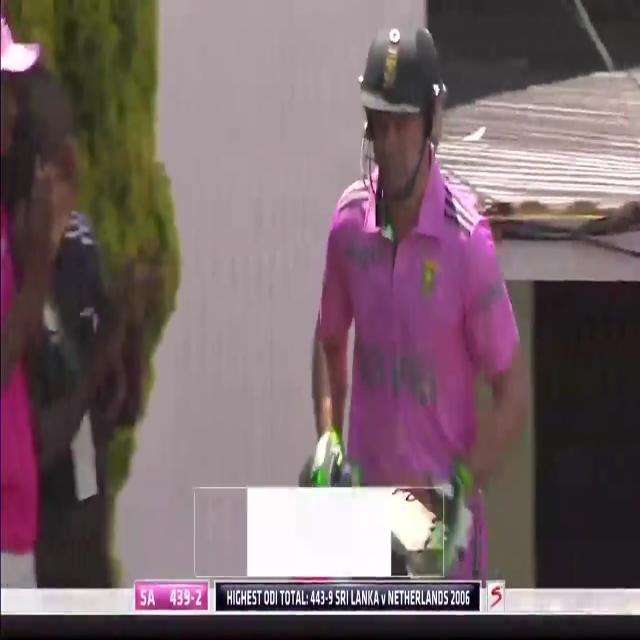Ball: (301, 16, 548, 494)
